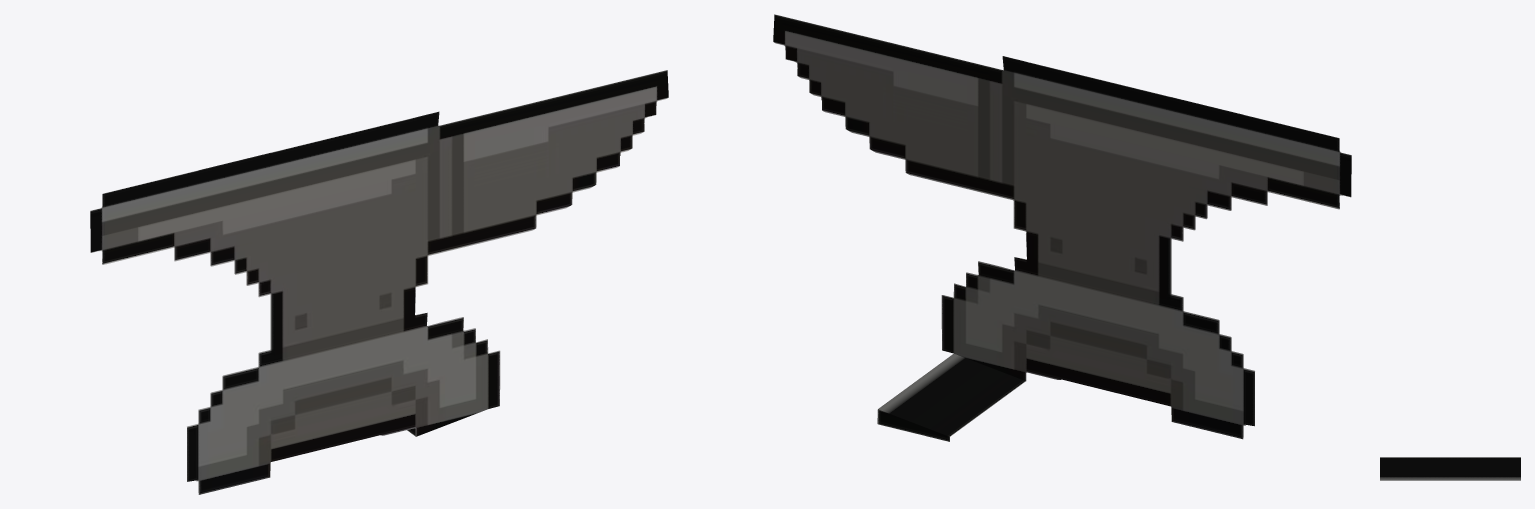
Rendered from envil.fbx.
The picture shows the model from 3 angles, left to right: view 1: azimuth 30°, elevation 25°; view 2: azimuth 150°, elevation 25°; view 3: azimuth 270°, elevation 25°; orthographic projection. The views are drawn at different scales.
Parts seen in each view (by area): view 1: Плоскость; view 2: Плоскость; view 3: Плоскость.
Boxes of the visible parts, left/top/right/bottom form: Плоскость: left=90, top=70, right=668, bottom=494; Плоскость: left=773, top=14, right=1351, bottom=441; Плоскость: left=1380, top=457, right=1520, bottom=480.
Size of the model in its own units: 373 by 200 by 84.86.
